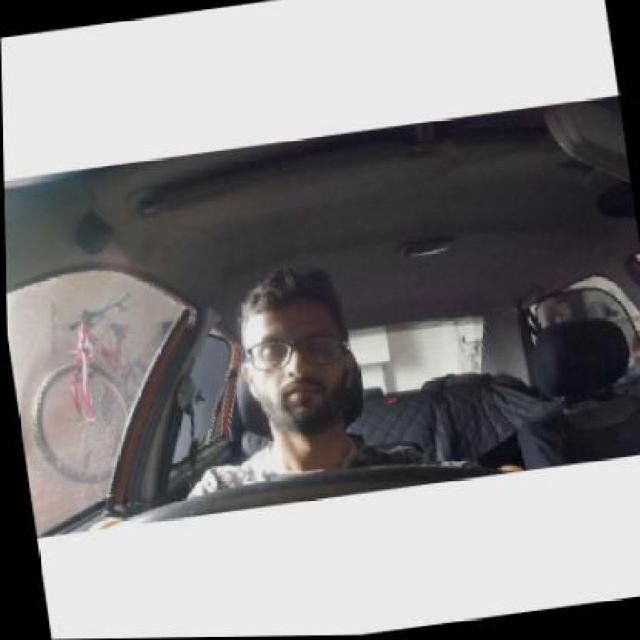drowsy: (210, 264, 376, 434)
